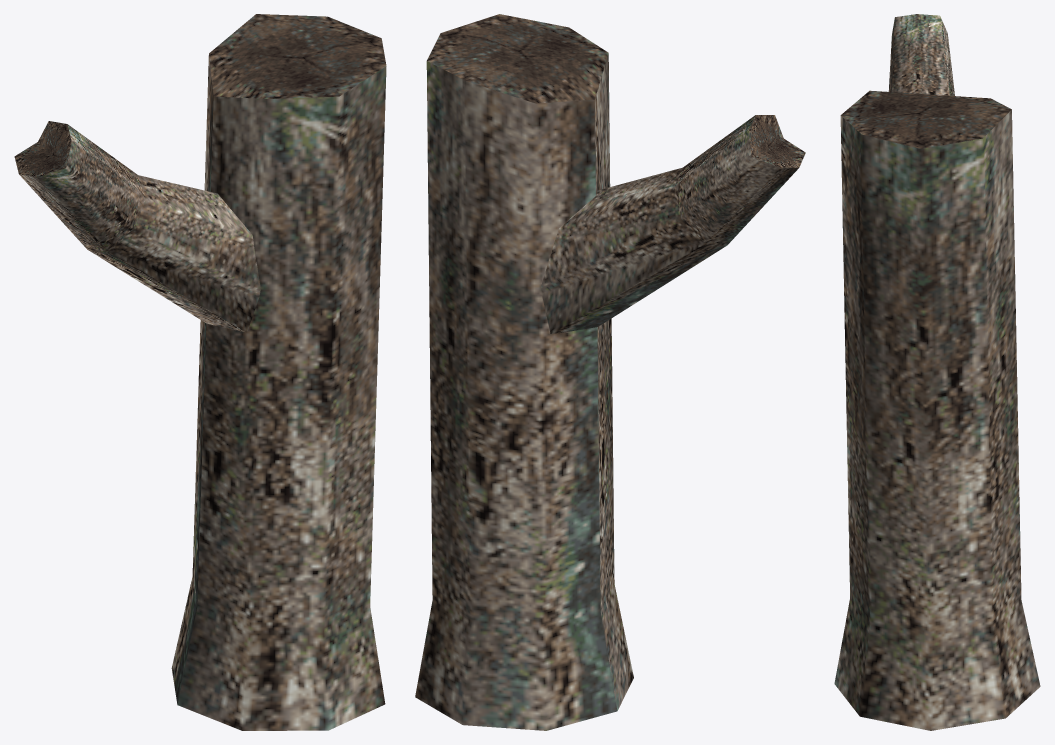
File: fp_log_1.glb
3 renders of one model, left to right at view 1: azimuth 30°, elevation 25°; view 2: azimuth 150°, elevation 25°; view 3: azimuth 270°, elevation 25°, orthographic. The views are drawn at different scales.
Parts seen in each view (by area): view 1: _MeshInstance3D_26, _MeshInstance3D_27; view 2: _MeshInstance3D_26, _MeshInstance3D_27; view 3: _MeshInstance3D_26, _MeshInstance3D_27.
Part boxes in pixels (box(x1,y1,x2,y2)): _MeshInstance3D_26: box(171, 14, 386, 730); _MeshInstance3D_27: box(14, 121, 260, 332); _MeshInstance3D_26: box(415, 14, 633, 730); _MeshInstance3D_27: box(541, 115, 805, 333); _MeshInstance3D_26: box(834, 90, 1040, 730); _MeshInstance3D_27: box(888, 14, 954, 95).
Bounding box in the file's own units: 0.6723 × 1.12 × 0.3581.
2 materials, 2 textured.
